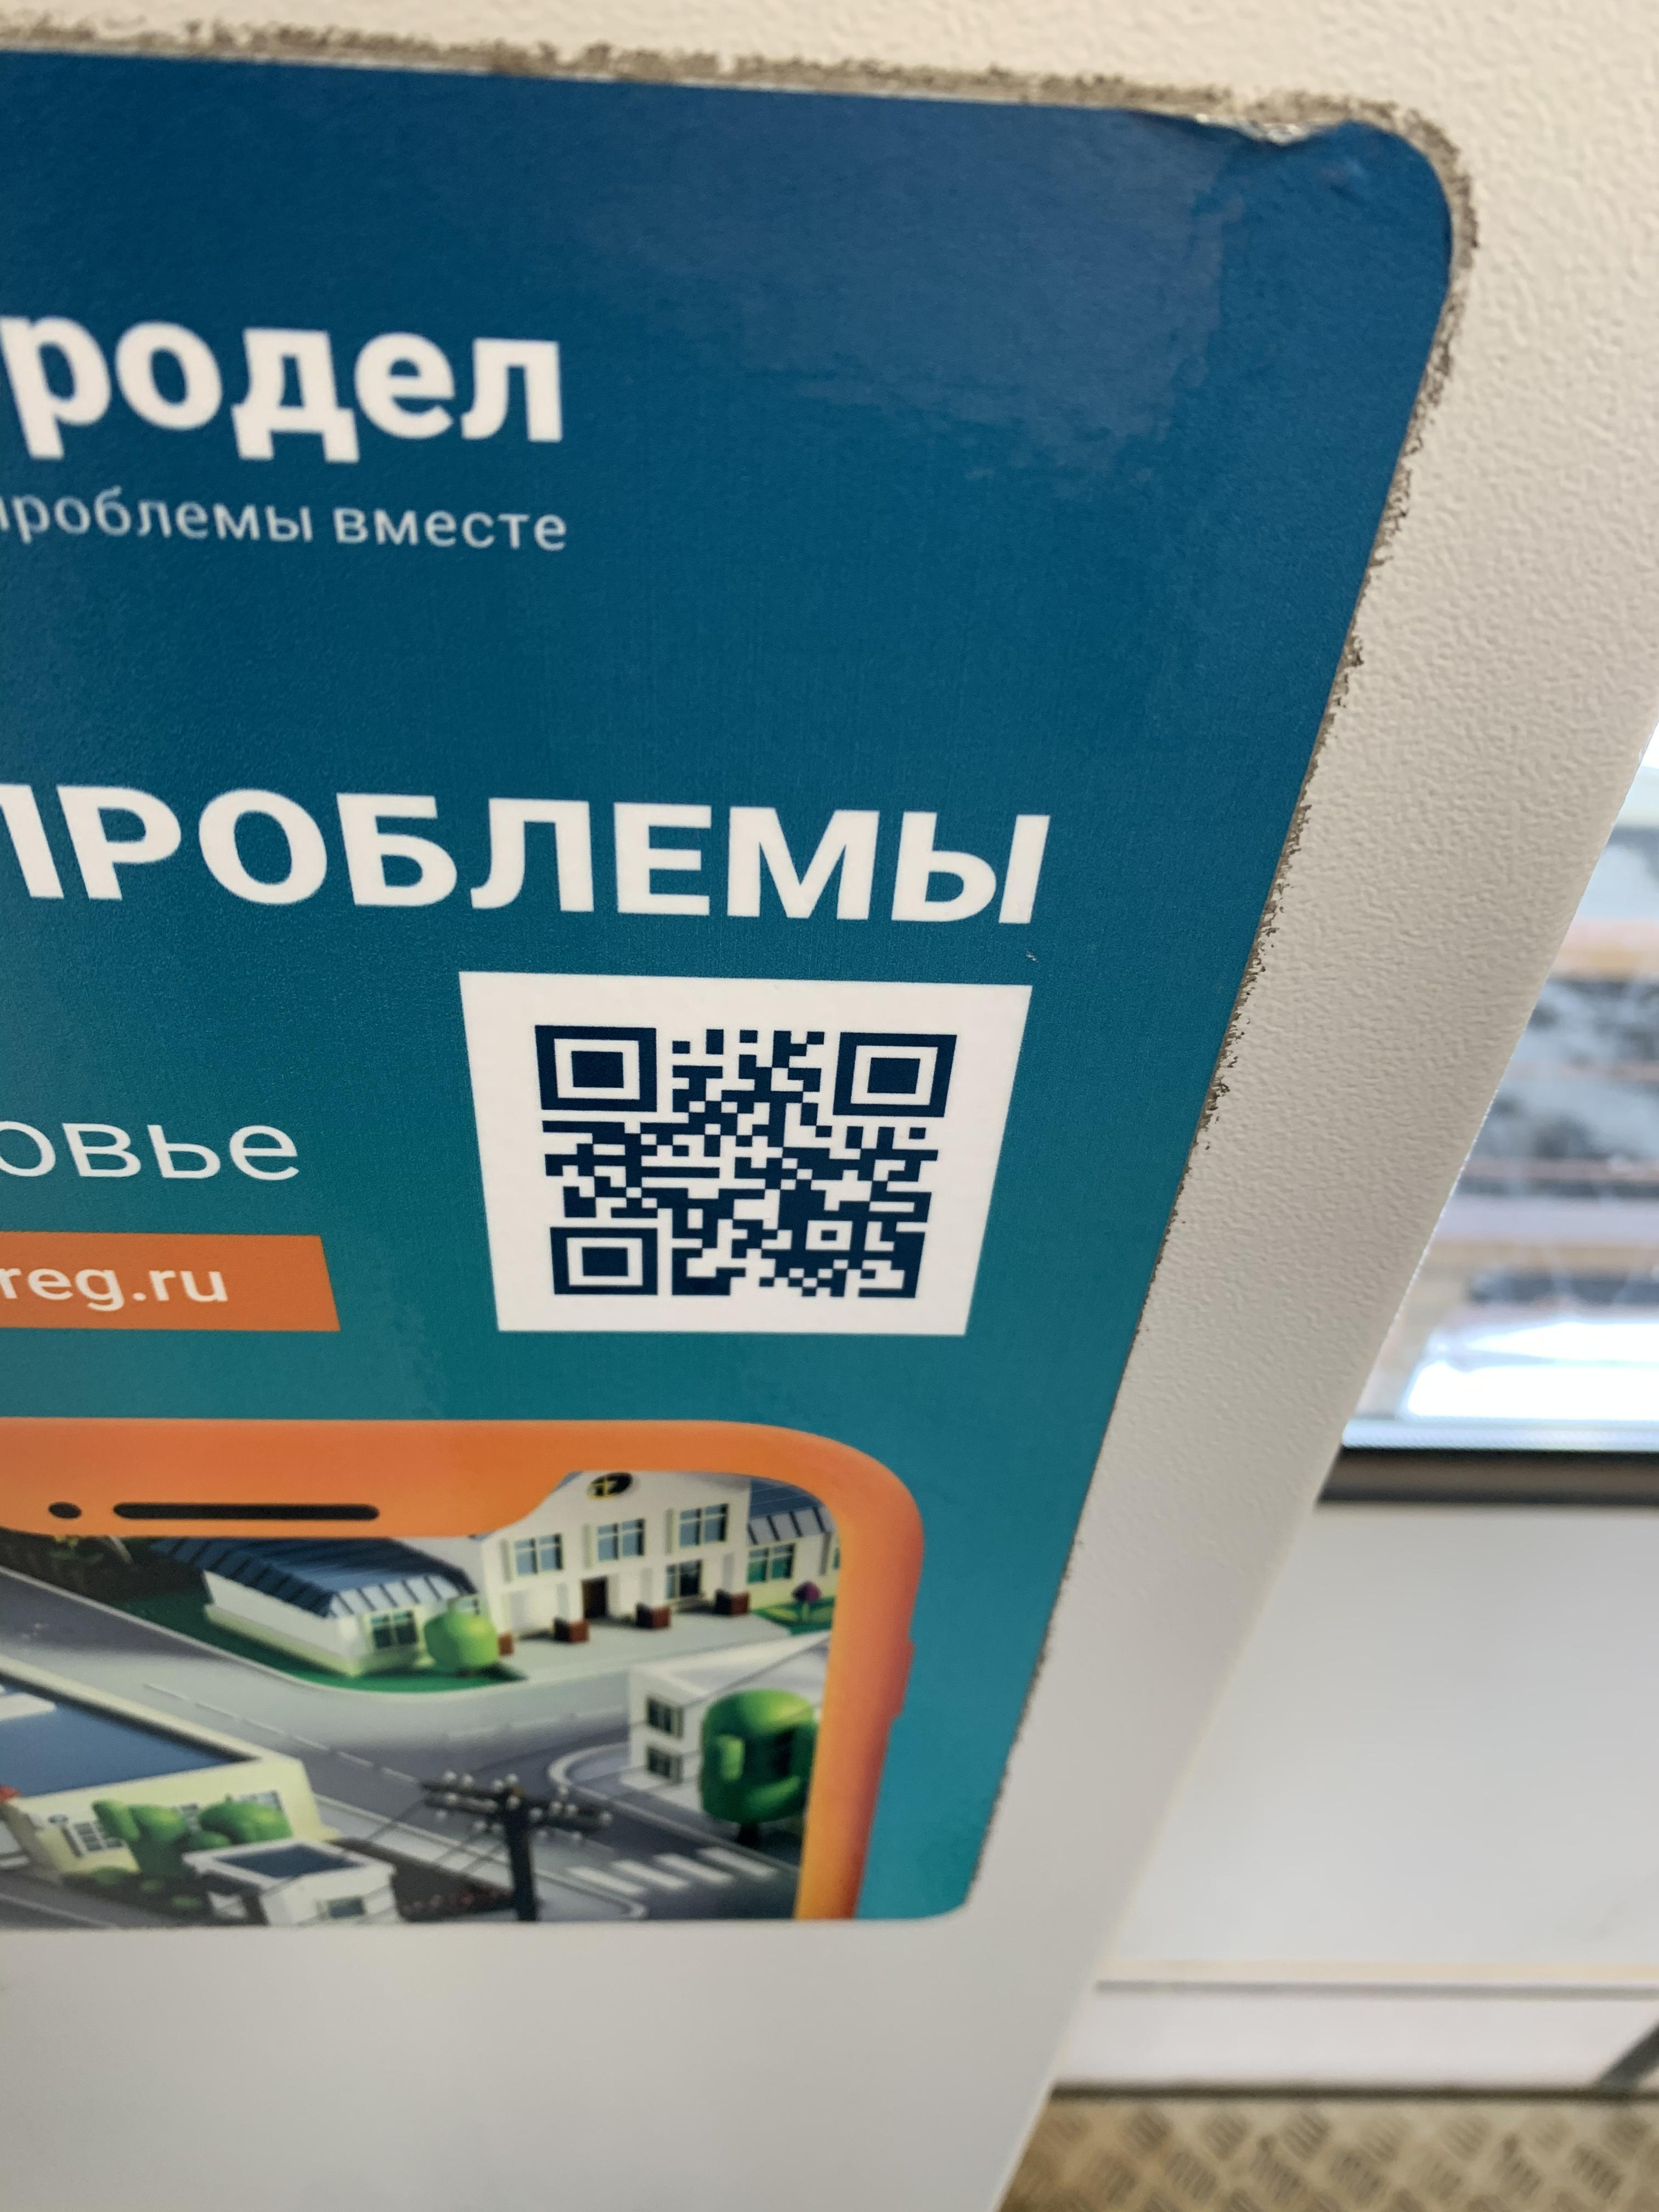qrcode: (535, 1015, 960, 1301)
